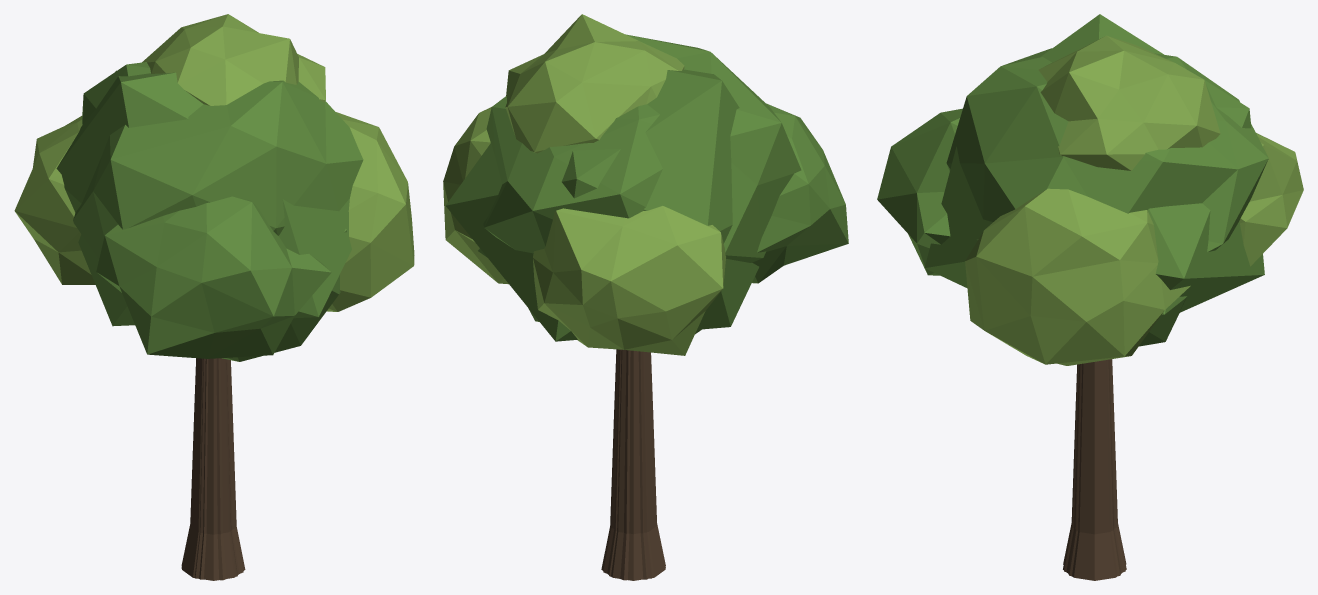
Rendered from neutral_tree_broadleaf.glb.
3 renders of one model, left to right at view 1: azimuth 30°, elevation 25°; view 2: azimuth 150°, elevation 25°; view 3: azimuth 270°, elevation 25°, orthographic.
Visible parts, largest first — view 1: foliage (×2), trunk (×3); view 2: foliage (×2), trunk (×3); view 3: foliage (×2), trunk (×3).
Boxes of the visible parts, bbox=[...] form: foliage (×2): bbox=[14, 14, 414, 361]; trunk (×3): bbox=[181, 358, 245, 580]; foliage (×2): bbox=[443, 14, 848, 355]; trunk (×3): bbox=[601, 349, 665, 580]; foliage (×2): bbox=[877, 14, 1303, 365]; trunk (×3): bbox=[1063, 359, 1126, 580].
Size of the model in its own units: 6.51 by 9.86 by 7.22.
